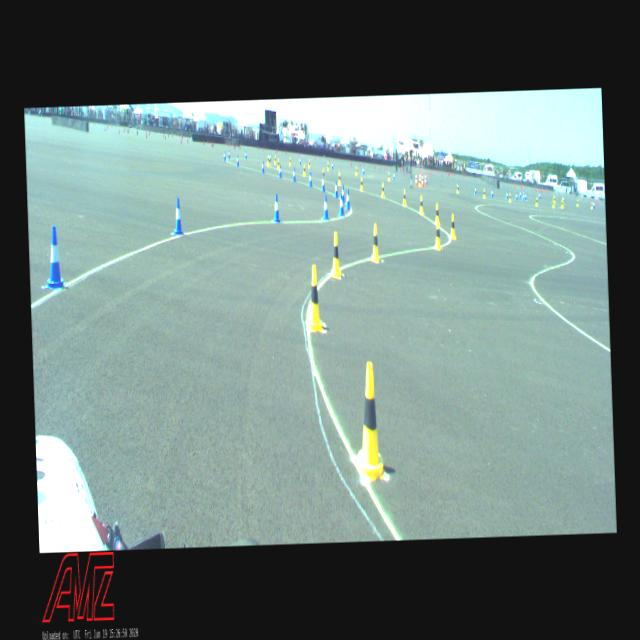blue_cone: (44, 224, 64, 289), (172, 197, 183, 236), (272, 193, 280, 222), (322, 195, 328, 220), (338, 192, 344, 216), (345, 188, 350, 210), (340, 183, 344, 202), (334, 180, 338, 198), (292, 166, 296, 182), (320, 175, 324, 191), (308, 172, 312, 186), (278, 165, 282, 178), (260, 160, 264, 173), (236, 154, 238, 167), (515, 190, 517, 200), (223, 150, 225, 160), (228, 149, 230, 159), (392, 170, 394, 180), (538, 190, 540, 200), (244, 150, 246, 159), (505, 190, 507, 199), (474, 185, 476, 194), (490, 188, 492, 197), (362, 165, 364, 174), (524, 191, 526, 200), (518, 189, 520, 198), (269, 152, 271, 161), (298, 156, 300, 165), (330, 160, 332, 168), (592, 200, 594, 208), (522, 192, 524, 200)
large_orange_cone: (418, 170, 421, 184), (414, 172, 416, 186), (421, 173, 423, 187), (424, 172, 426, 185)
yellow_cone: (354, 362, 384, 478), (305, 264, 322, 330), (328, 231, 342, 278), (369, 224, 380, 262), (433, 221, 441, 250), (449, 214, 456, 238), (434, 202, 439, 225), (418, 194, 424, 213), (402, 188, 406, 206), (380, 182, 384, 198), (302, 164, 306, 176), (534, 197, 538, 206), (338, 171, 340, 185), (322, 167, 324, 181), (387, 172, 390, 181), (360, 177, 362, 190), (509, 192, 511, 202), (276, 158, 278, 168), (482, 188, 484, 198), (274, 154, 276, 164), (456, 182, 458, 192), (268, 156, 270, 166), (266, 154, 268, 164), (418, 176, 420, 186), (355, 166, 357, 175), (288, 156, 290, 165), (561, 199, 563, 208), (308, 159, 310, 168), (553, 195, 555, 204), (326, 162, 328, 170), (576, 198, 578, 206), (552, 199, 554, 207), (590, 202, 592, 208)
